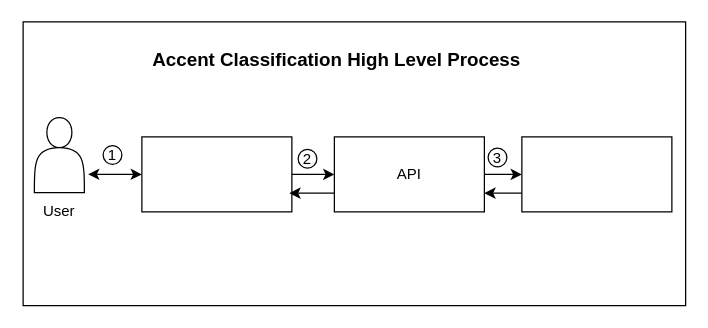
Some shapes in this 708 by 328 pixel diagram are drawn without their labels. Here are the shapes that lost their labels. From the top down, the box of each, then its label:
(141, 136, 292, 212): Browser
(521, 136, 672, 212): Classification Model
